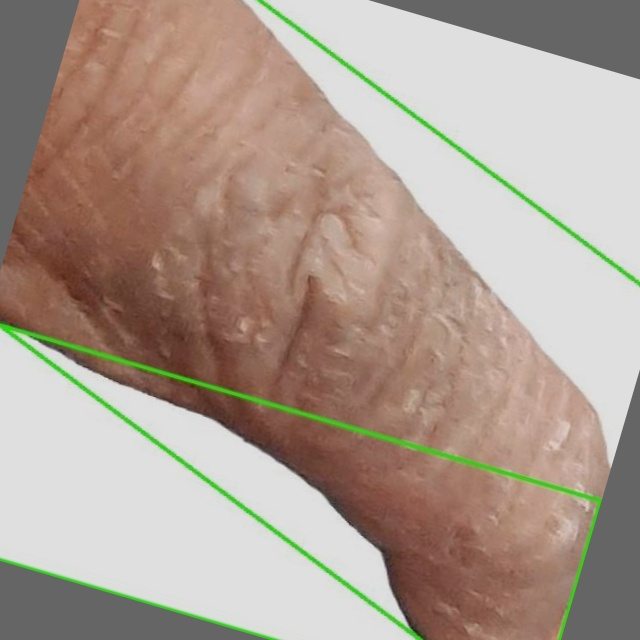Eczema: (0, 0, 639, 639), (0, 325, 601, 639)
